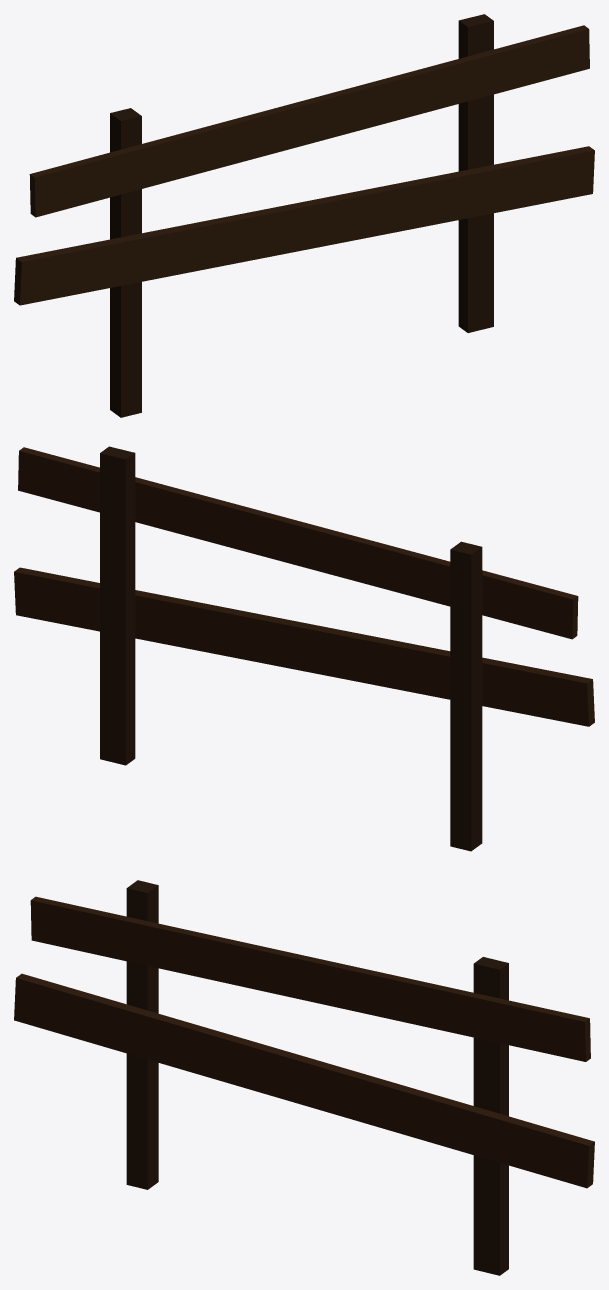
Rendered from Fence03.fbx.
The picture shows the model from 3 angles, top to bottom: view 1: azimuth 30°, elevation 25°; view 2: azimuth 150°, elevation 25°; view 3: azimuth 330°, elevation 25°; orthographic projection.
Visible parts, largest first — view 1: Boards (×2), Posts; view 2: Boards (×2), Posts; view 3: Boards (×2), Posts.
Boxes of the visible parts, x1,y1,x2,y2 form: Boards (×2): (14,25,594,305); Posts: (110,14,493,417); Boards (×2): (14,447,594,726); Posts: (100,446,482,851); Boards (×2): (14,896,594,1188); Posts: (126,880,508,1275).
Bounding box in the file's own units: 29.45 × 14.97 × 1.5.
